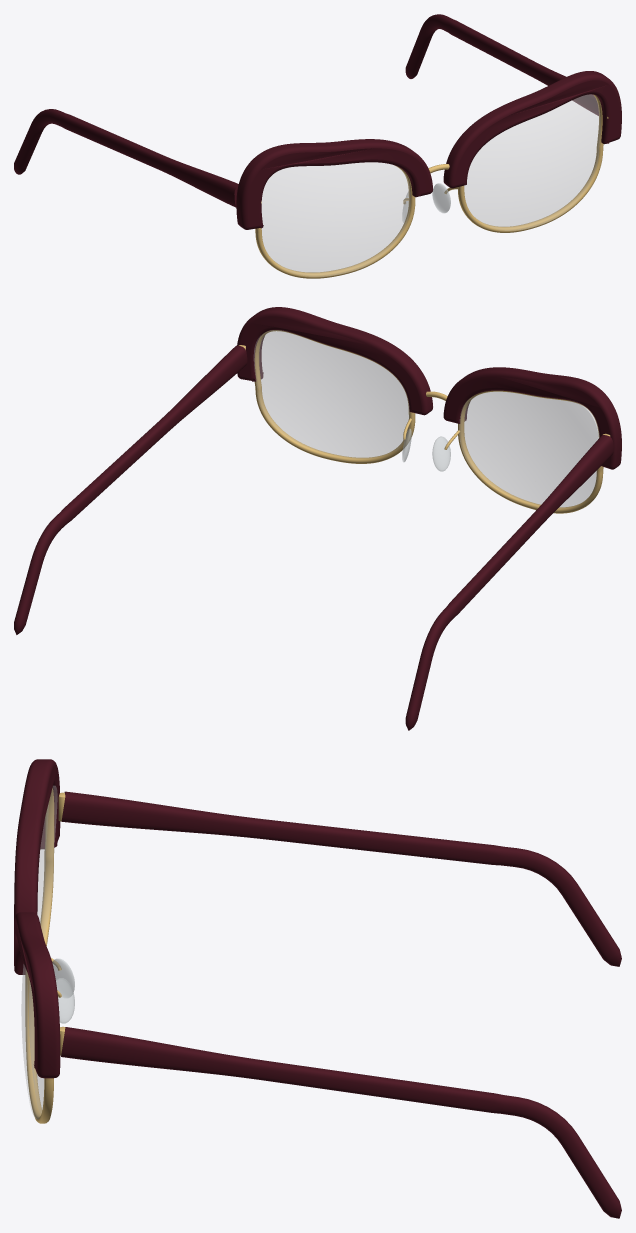
Rendered from mae-s.glb.
The picture shows the model from 3 angles, top to bottom: view 1: azimuth 30°, elevation 25°; view 2: azimuth 150°, elevation 25°; view 3: azimuth 270°, elevation 25°; orthographic projection. The views are drawn at different scales.
Parts seen in each view (by area): view 1: Front, Lens_R, Lens_L, Temple_R, Temple_L, NosePads; view 2: Front, Lens_L, Lens_R, Temple_L, Temple_R, NosePads; view 3: Temple_L, Temple_R, Front, Lens_L, Lens_R, NosePads.
Boxes of the visible parts, left/top/right/bottom form: Front: left=236, top=71, right=621, bottom=278; Lens_R: left=262, top=162, right=410, bottom=276; Lens_L: left=464, top=94, right=600, bottom=230; Temple_R: left=14, top=109, right=238, bottom=207; Temple_L: left=405, top=14, right=598, bottom=115; NosePads: left=402, top=183, right=450, bottom=222; Front: left=237, top=307, right=621, bottom=513; Lens_L: left=254, top=330, right=409, bottom=458; Lens_R: left=459, top=392, right=599, bottom=507; Temple_L: left=14, top=345, right=247, bottom=634; Temple_R: left=405, top=435, right=613, bottom=730; NosePads: left=402, top=429, right=450, bottom=471; Temple_L: left=61, top=1027, right=621, bottom=1218; Temple_R: left=61, top=791, right=621, bottom=966; Front: left=14, top=759, right=65, bottom=1123; Lens_L: left=21, top=964, right=43, bottom=1118; Lens_R: left=37, top=786, right=57, bottom=938; NosePads: left=52, top=958, right=74, bottom=1023.
Bounding box in the file's own units: 0.1318 × 0.0554 × 0.1315.
